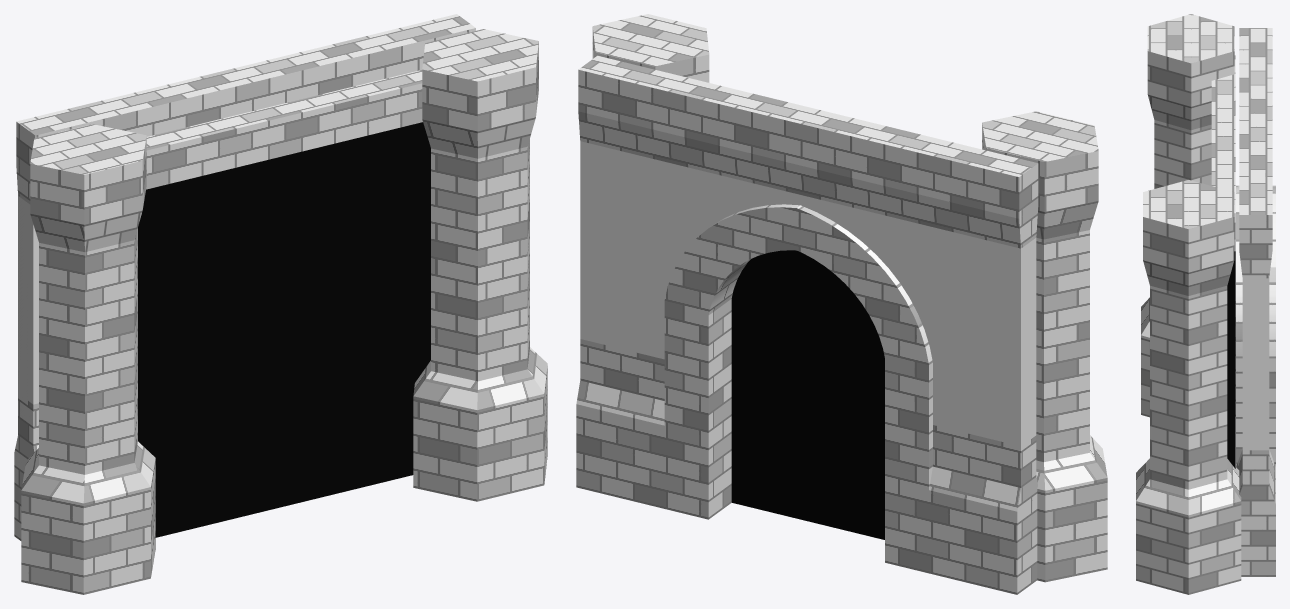
Rendered from deco_door_1.fbx.
3 renders of one model, left to right at view 1: azimuth 30°, elevation 25°; view 2: azimuth 150°, elevation 25°; view 3: azimuth 270°, elevation 25°, orthographic. The views are drawn at different scales.
Parts seen in each view (by area): view 1: mergedBlocks; view 2: mergedBlocks; view 3: mergedBlocks.
Part boxes in pixels (x1,y1,x2,y2): mergedBlocks: (14,14,547,594); mergedBlocks: (576,14,1107,594); mergedBlocks: (1136,14,1275,594).
Size of the model in its own units: 39.6 by 30 by 10.5.
Materials: 3 (1 with a texture image).
